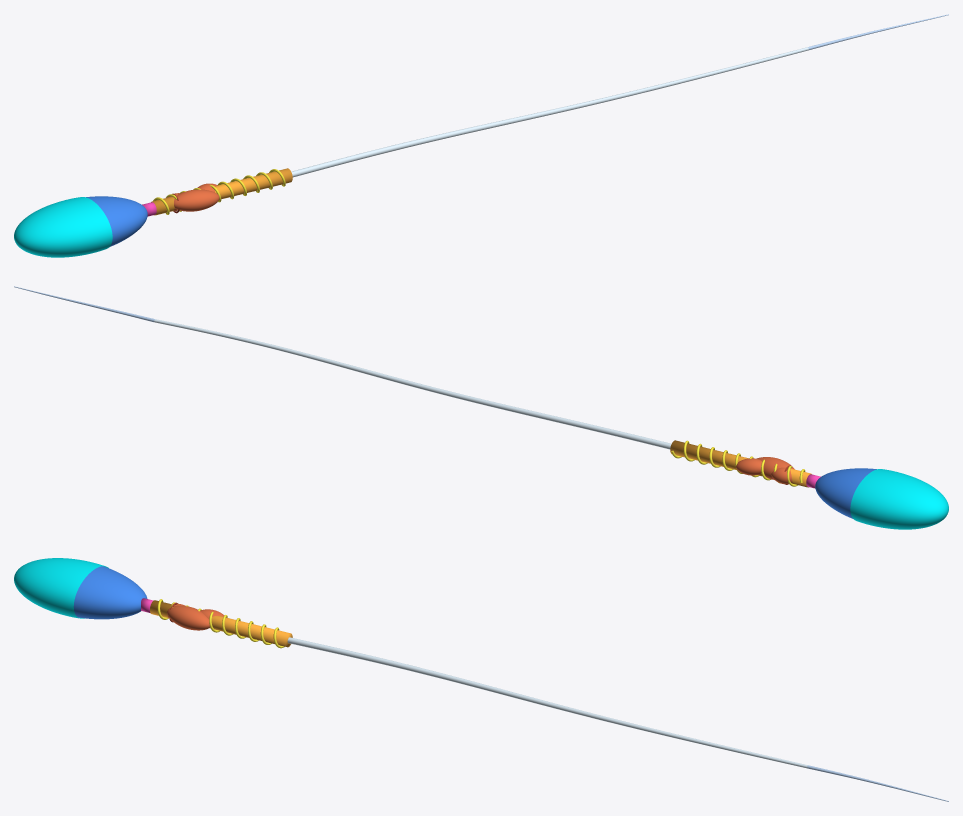
Rendered from 15_Exceso_citoplasma_residual.glb.
3 renders of one model, top to bottom at view 1: azimuth 30°, elevation 25°; view 2: azimuth 150°, elevation 25°; view 3: azimuth 330°, elevation 25°, orthographic.
Parts seen in each view (by area): view 1: Cubierta_acrosomal_didactica.001, Cola_pieza_principal.001, Cabeza_nucleo.001, Pieza_intermedia.001, Citoplasma_residual_excesivo_principal, Helice_mitocondrial_didactica.001; view 2: Cubierta_acrosomal_didactica.001, Cola_pieza_principal.001, Cabeza_nucleo.001, Pieza_intermedia.001, Helice_mitocondrial_didactica.001; view 3: Cubierta_acrosomal_didactica.001, Cola_pieza_principal.001, Cabeza_nucleo.001, Pieza_intermedia.001, Citoplasma_residual_excesivo_principal, Helice_mitocondrial_didactica.001.
Part boxes in pixels (x1,y1,x2,y2): Cubierta_acrosomal_didactica.001: (14, 197, 112, 257); Cola_pieza_principal.001: (291, 47, 808, 177); Cabeza_nucleo.001: (86, 196, 147, 246); Pieza_intermedia.001: (151, 168, 292, 215); Citoplasma_residual_excesivo_principal: (174, 189, 219, 211); Helice_mitocondrial_didactica.001: (153, 169, 285, 214); Cubierta_acrosomal_didactica.001: (850, 469, 948, 529); Cola_pieza_principal.001: (154, 319, 671, 449); Cabeza_nucleo.001: (815, 468, 876, 518); Pieza_intermedia.001: (670, 440, 811, 487); Helice_mitocondrial_didactica.001: (671, 440, 805, 486); Cubierta_acrosomal_didactica.001: (14, 558, 108, 618); Cola_pieza_principal.001: (287, 637, 807, 768); Cabeza_nucleo.001: (73, 566, 147, 619); Pieza_intermedia.001: (150, 600, 292, 647); Citoplasma_residual_excesivo_principal: (167, 605, 209, 630); Helice_mitocondrial_didactica.001: (157, 599, 284, 648).
Size of the model in its own units: 62.85 by 2.93 by 4.65.
